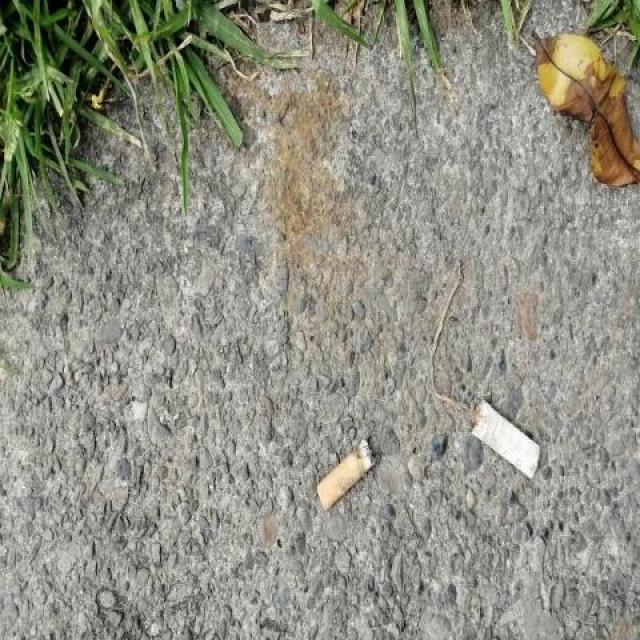non-organic waste: (462, 388, 545, 481), (312, 434, 379, 514)
